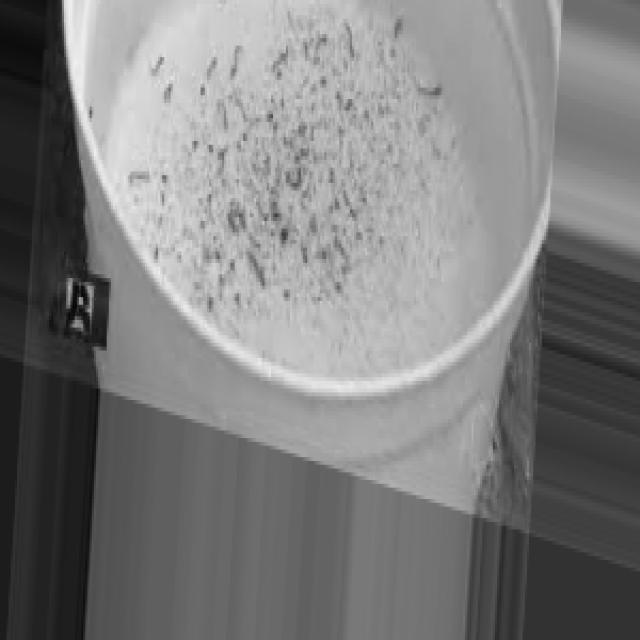larvas: (238, 246, 284, 301), (216, 38, 257, 81), (117, 149, 152, 199), (227, 202, 259, 245), (413, 67, 447, 105), (389, 10, 412, 58), (339, 18, 362, 63), (140, 54, 176, 80), (286, 154, 305, 200)
